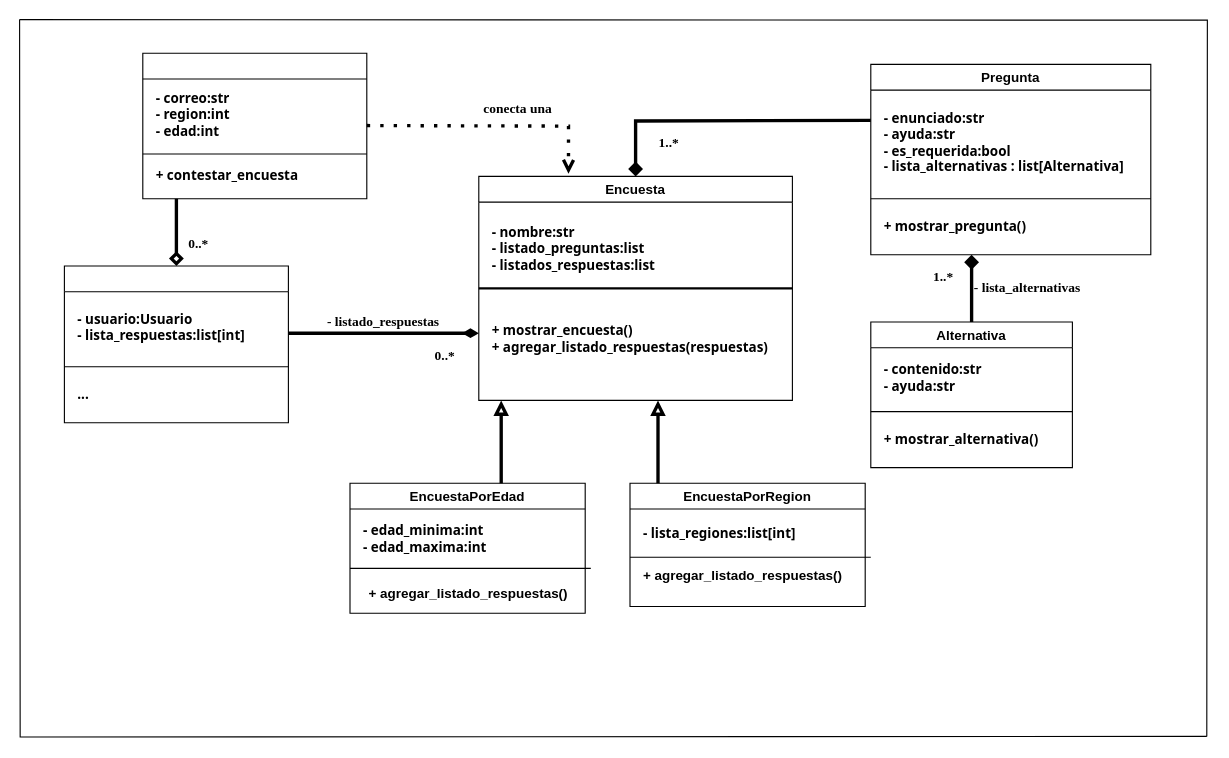
Image size: 1229x758. Some labels were removed from this diagram. The shapes that lost their labels are listed below. From the top down, each one's box as (x1, y1, x2, y2) in pixels, then its label:
(142, 52, 367, 199): Usuario
(63, 265, 288, 423): ListadoDeRespuestas
